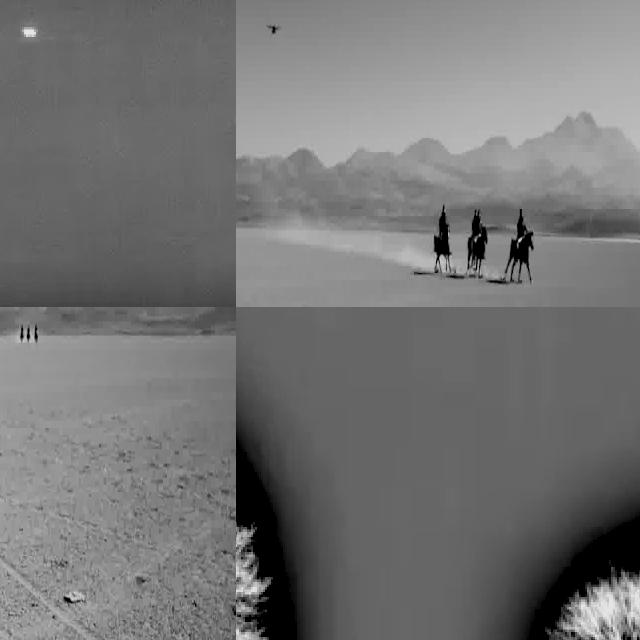1: (17, 22, 41, 44)
drone: (268, 16, 287, 44)
